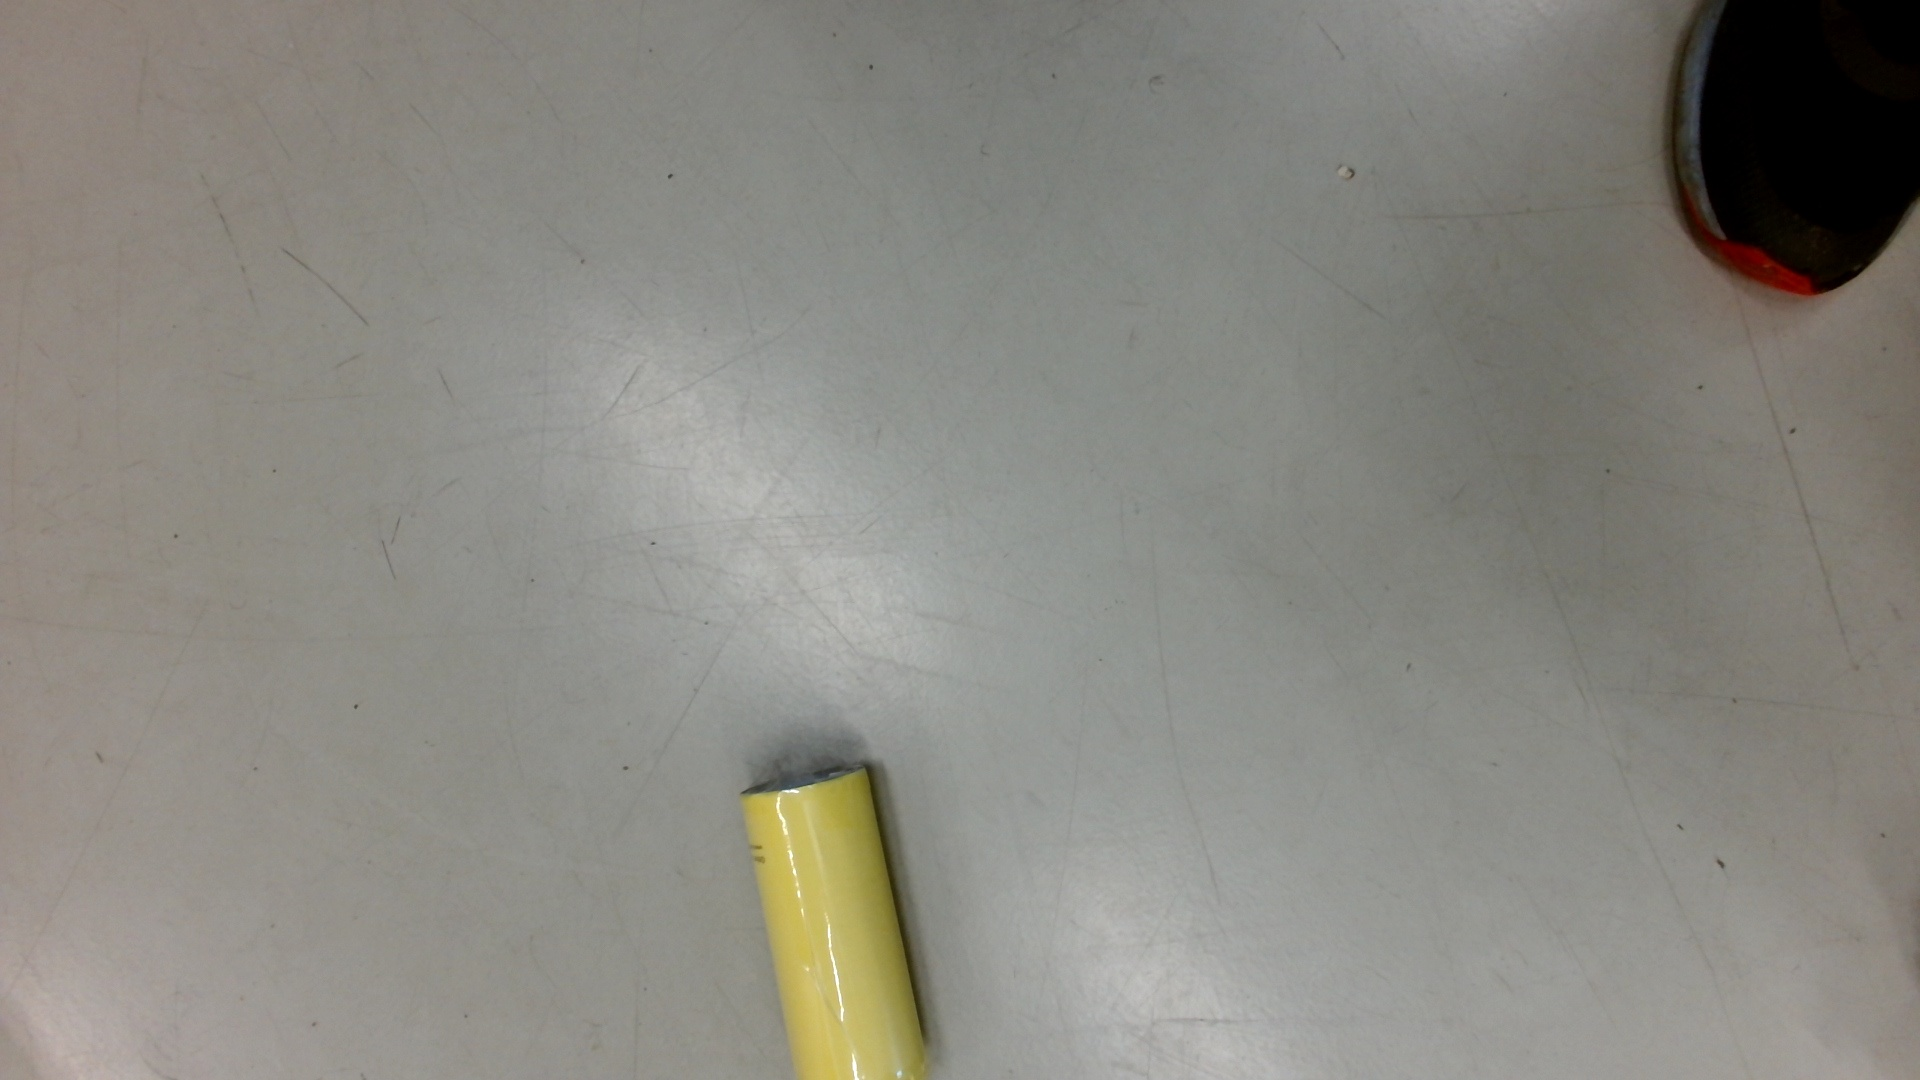Cylinder: (733, 758, 943, 1080)
